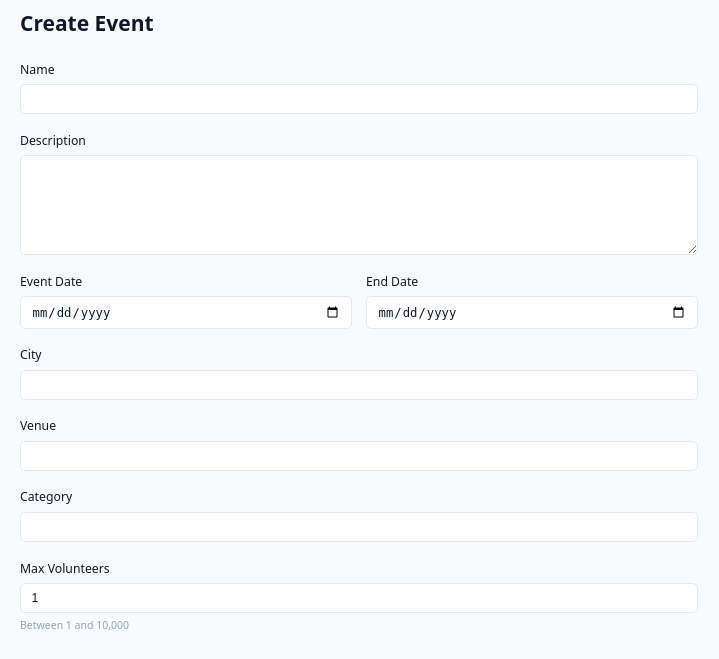
it: EventCreateContent › form validation on blur › shows error when end date is before start date
Type "2025-06-15" into the date field labelled "Event Date".
click(186, 313); type("2025-06-15")  # box left=20, top=296, right=352, bottom=329
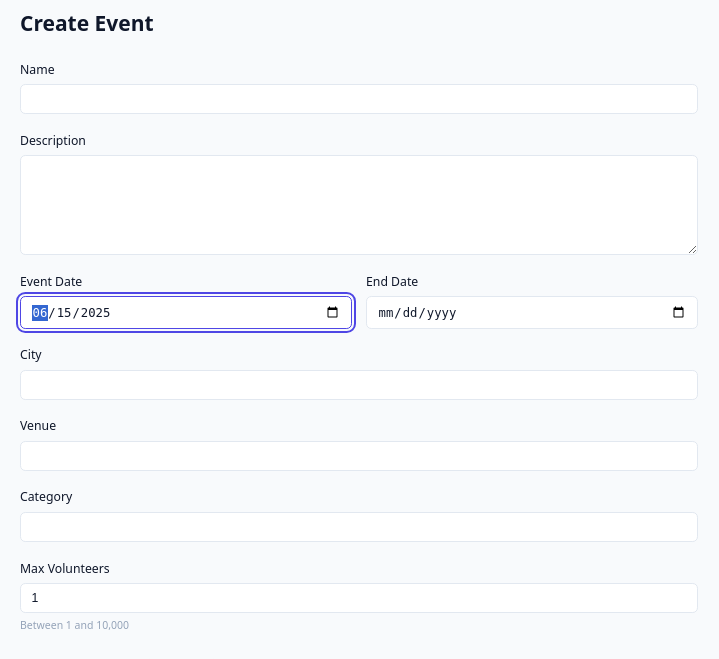
Type "2025-06-10" into the date field labelled "End Date".
click(532, 313); type("2025-06-10")  # box left=366, top=296, right=698, bottom=329
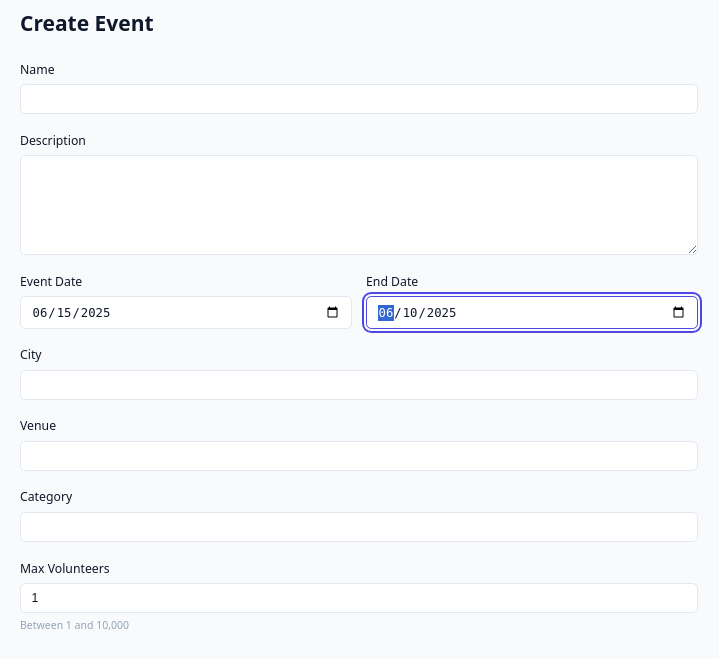
Press Tab
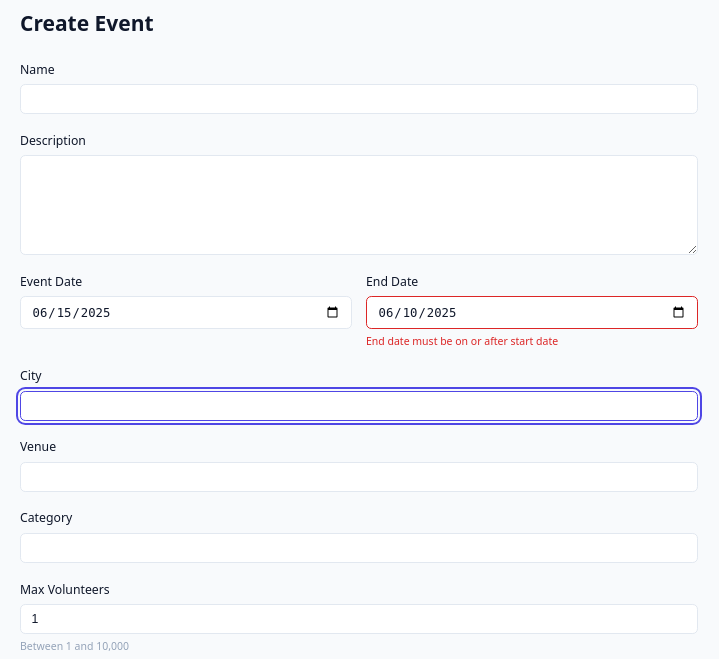
Expected: the text "End date must be on or after start date" is shown, left=366, top=334, right=558, bottom=348
